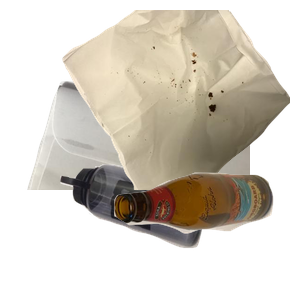glass: (111, 170, 300, 300)
paper: (25, 79, 265, 259)
plastic: (58, 162, 261, 300)
trash: (60, 10, 300, 190)
